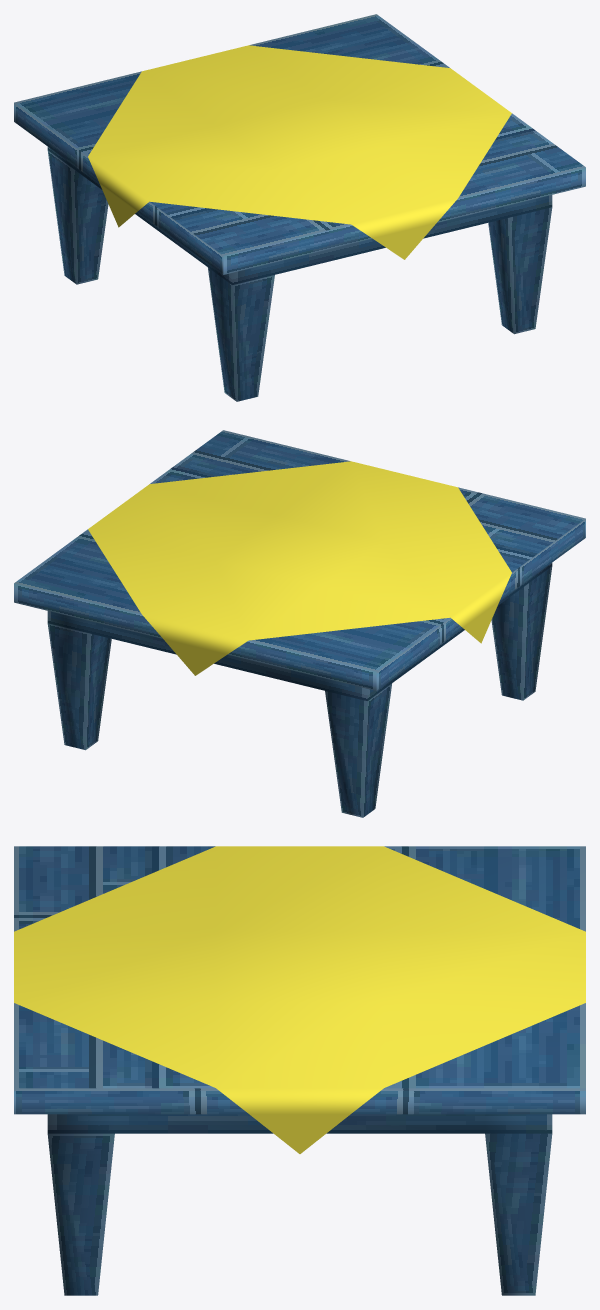
The model's file is rmk_blu_tableL.dae.
The picture shows the model from 3 angles, top to bottom: view 1: azimuth 30°, elevation 25°; view 2: azimuth 150°, elevation 25°; view 3: azimuth 270°, elevation 25°; orthographic projection. The views are drawn at different scales.
Visible parts, largest first — view 1: rmk_blu_tableL; view 2: rmk_blu_tableL; view 3: rmk_blu_tableL.
Part boxes in pixels (x1,y1,x2,y2): rmk_blu_tableL: (14, 14, 585, 401); rmk_blu_tableL: (14, 430, 585, 817); rmk_blu_tableL: (14, 846, 585, 1295).
Bounding box in the file's own units: 54.4 × 24 × 54.4.
Materials: 2 (2 with a texture image).
